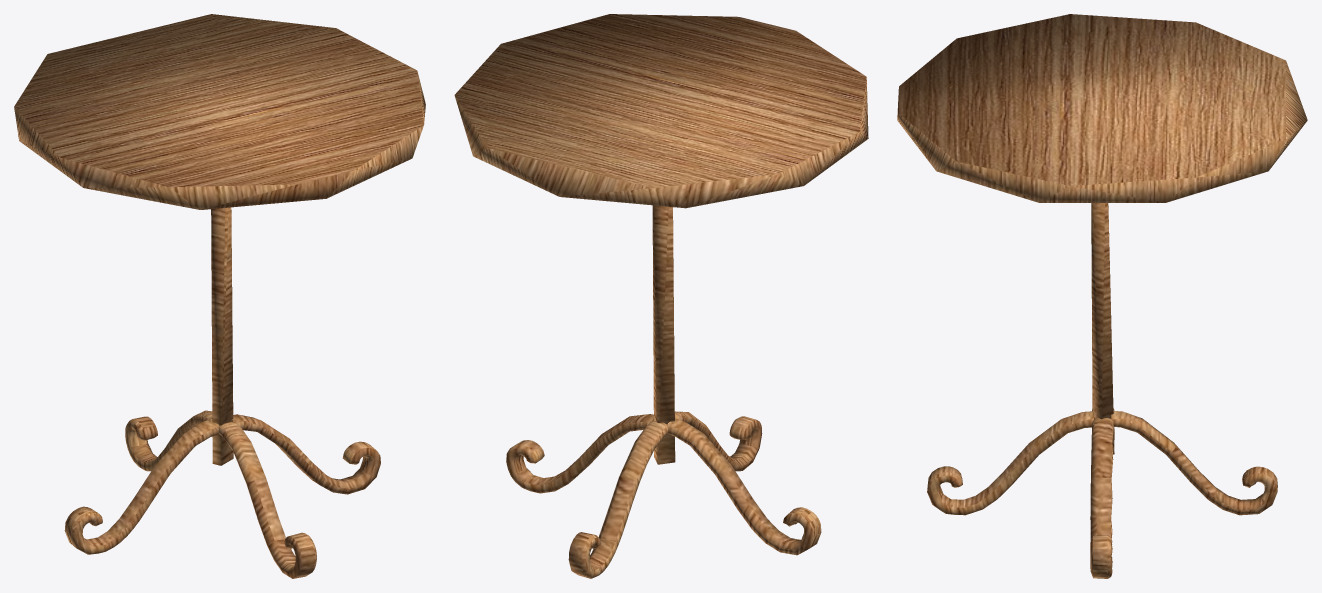
The model's file is Table.fbx.
The picture shows the model from 3 angles, left to right: view 1: azimuth 30°, elevation 25°; view 2: azimuth 150°, elevation 25°; view 3: azimuth 270°, elevation 25°; orthographic projection.
Parts seen in each view (by area): view 1: Cylinder.001; view 2: Cylinder.001; view 3: Cylinder.001.
Boxes of the visible parts, <box> form: Cylinder.001: <box>14,14,425,578</box>; Cylinder.001: <box>454,14,868,578</box>; Cylinder.001: <box>897,14,1307,578</box>.
Bounding box in the file's own units: 148 × 166 × 149.
